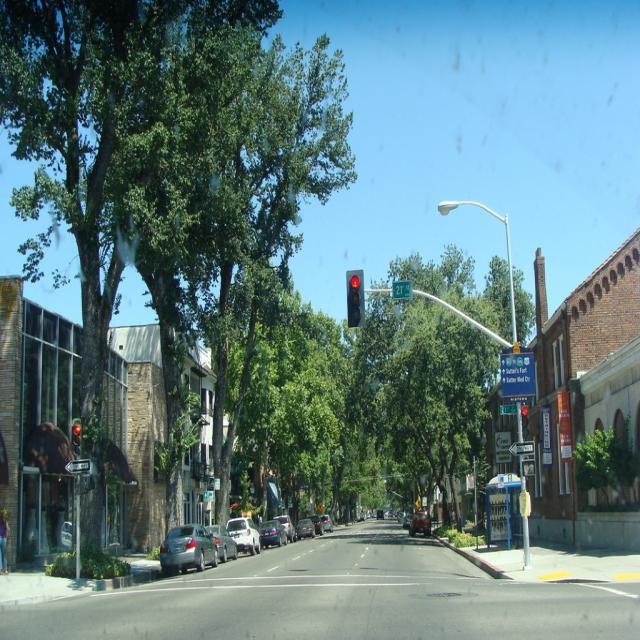traffic light: (348, 270, 364, 325)
